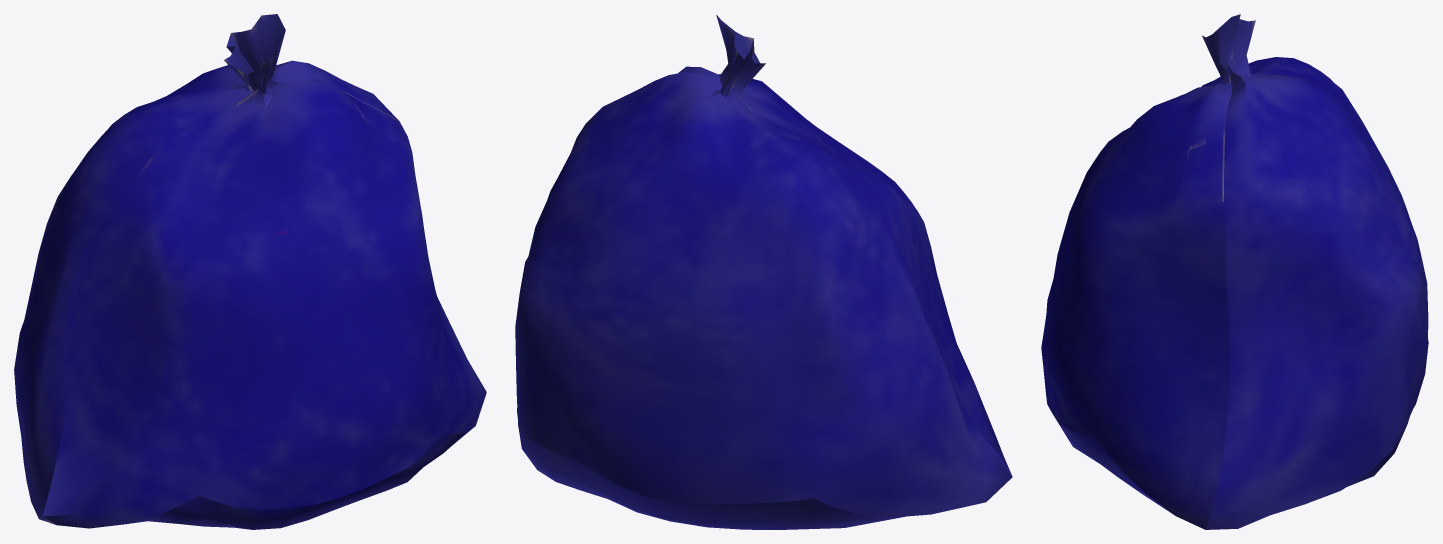
File: Trash4.fbx
The picture shows the model from 3 angles, left to right: view 1: azimuth 30°, elevation 25°; view 2: azimuth 150°, elevation 25°; view 3: azimuth 270°, elevation 25°; orthographic projection. The views are drawn at different scales.
Visible parts, largest first — view 1: Trash4; view 2: Trash4; view 3: Trash4.
Boxes of the visible parts, x1,y1,x2,y2 form: Trash4: (14, 14, 486, 529); Trash4: (515, 14, 1012, 529); Trash4: (1041, 14, 1428, 529).
Bounding box in the file's own units: 44.73 × 41.43 × 33.47.
